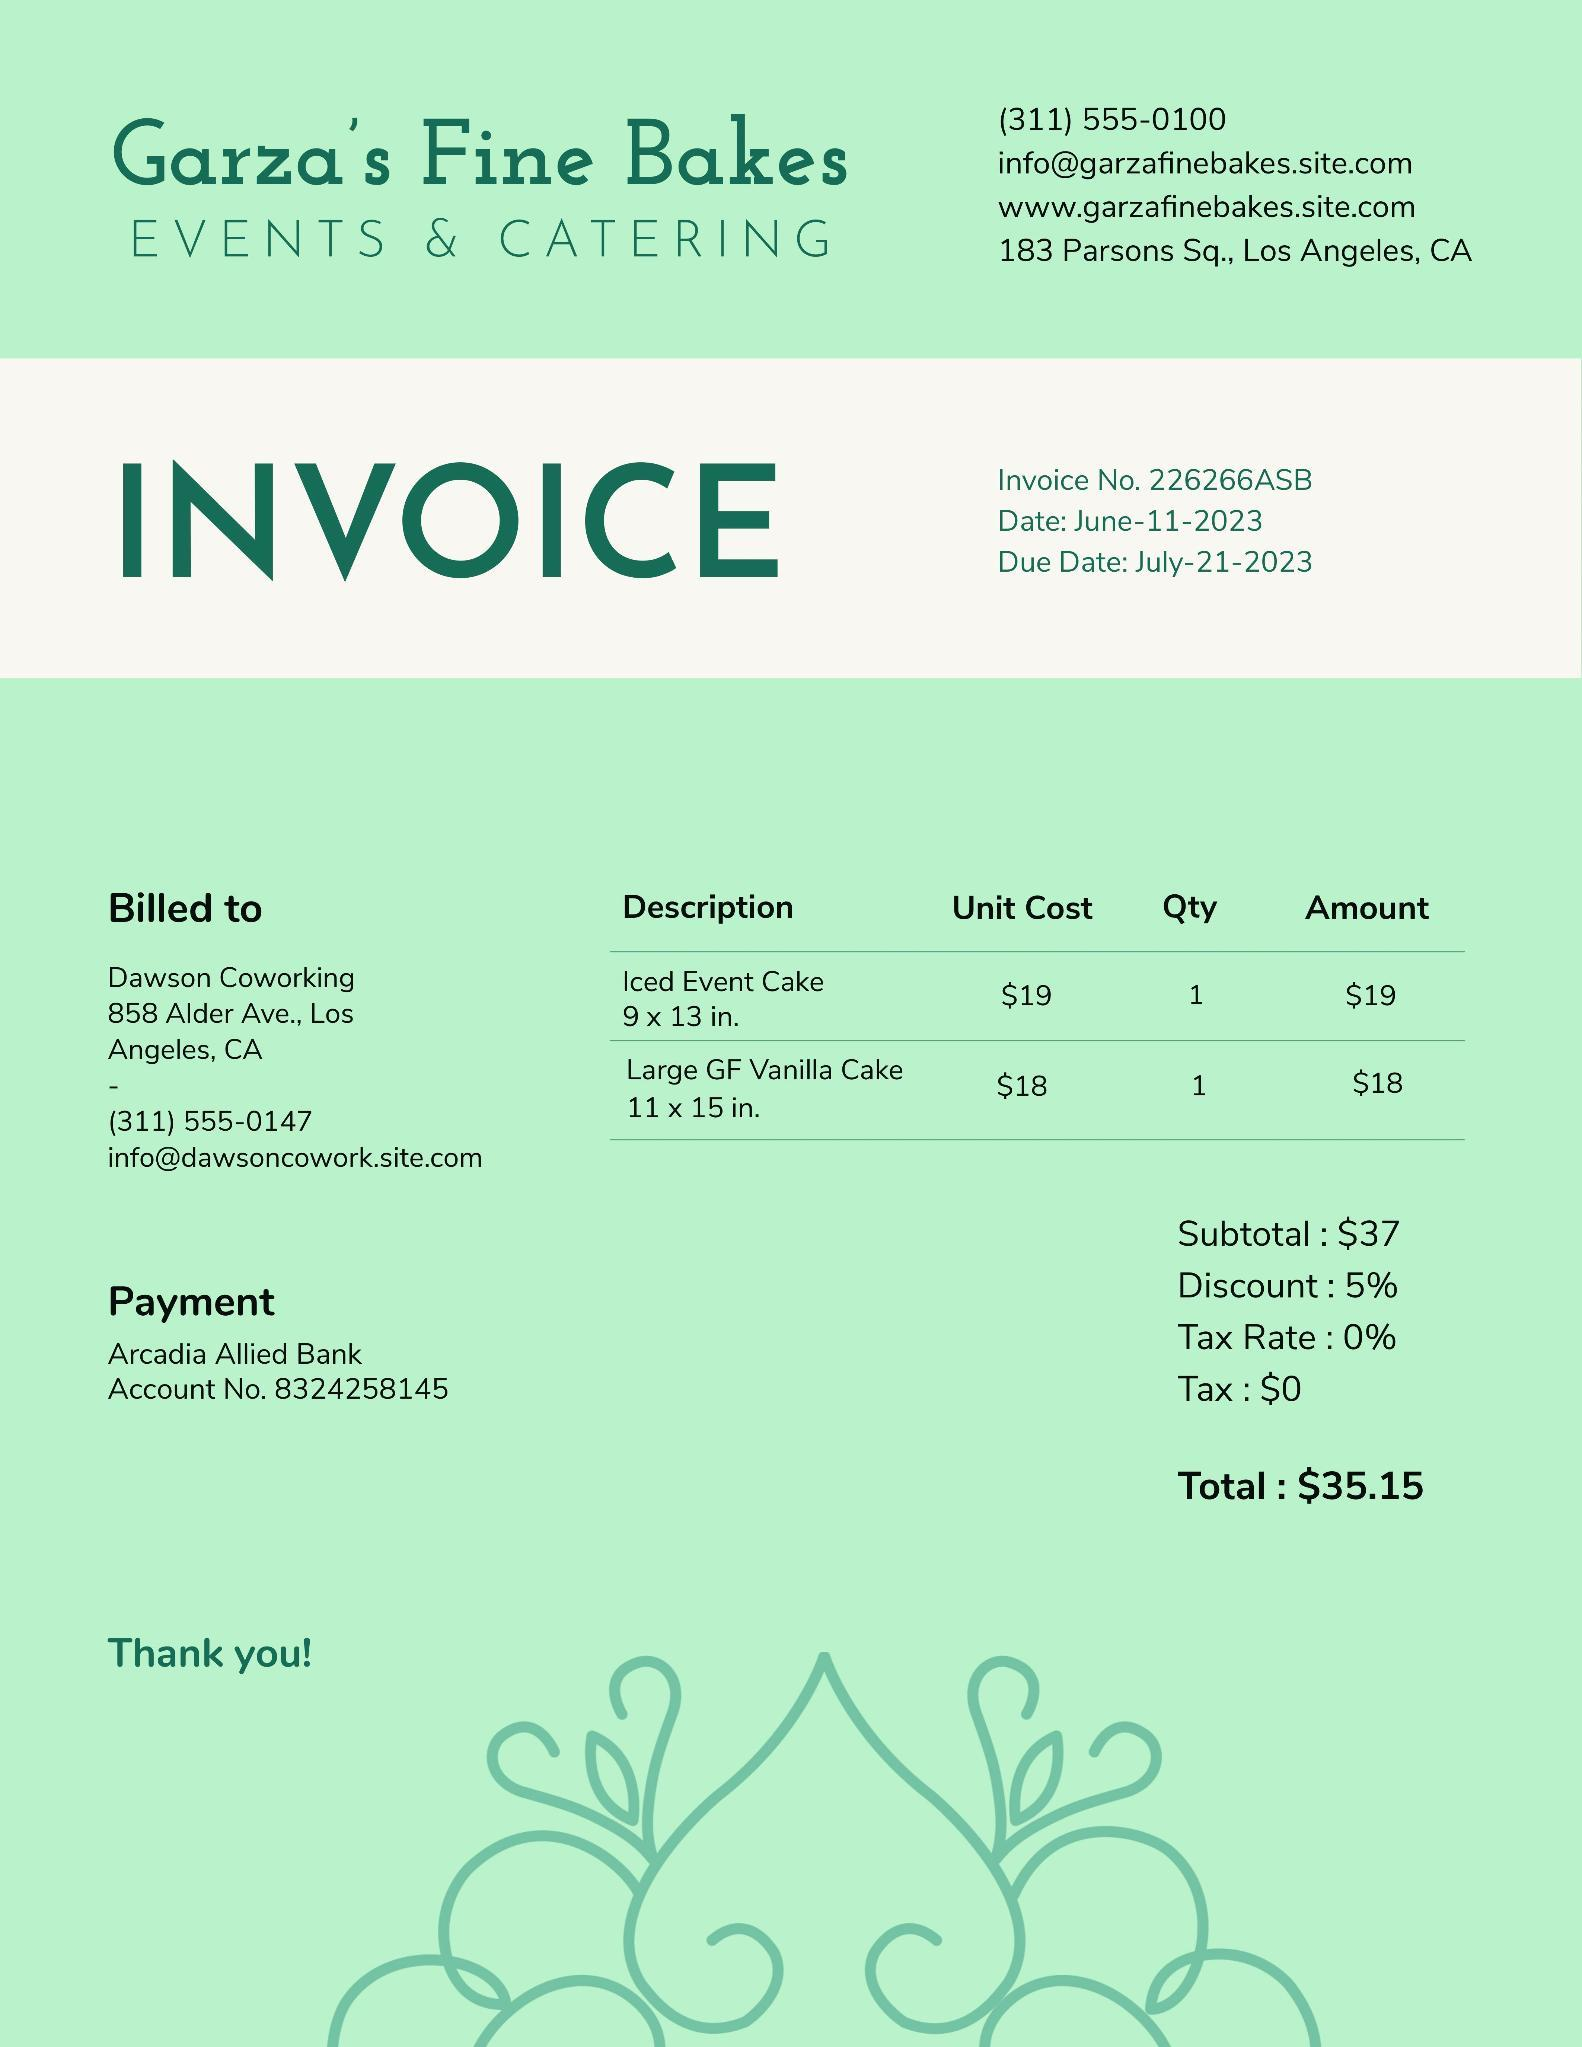ROI: (578, 857, 1502, 1168), (61, 76, 872, 296), (76, 856, 499, 1210), (65, 420, 819, 605), (980, 90, 1491, 287), (73, 1249, 474, 1437), (1150, 1205, 1427, 1437), (975, 447, 1354, 600), (1165, 1451, 1442, 1530), (78, 1613, 346, 1685)
